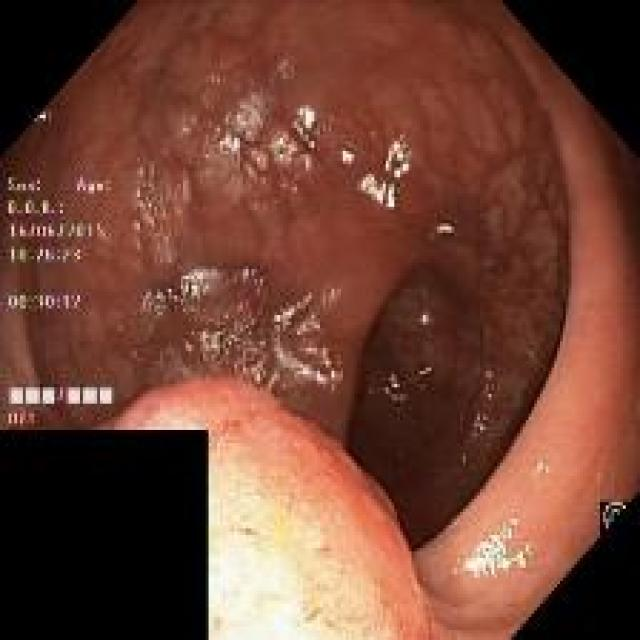Polyps: (115, 379, 431, 640)
